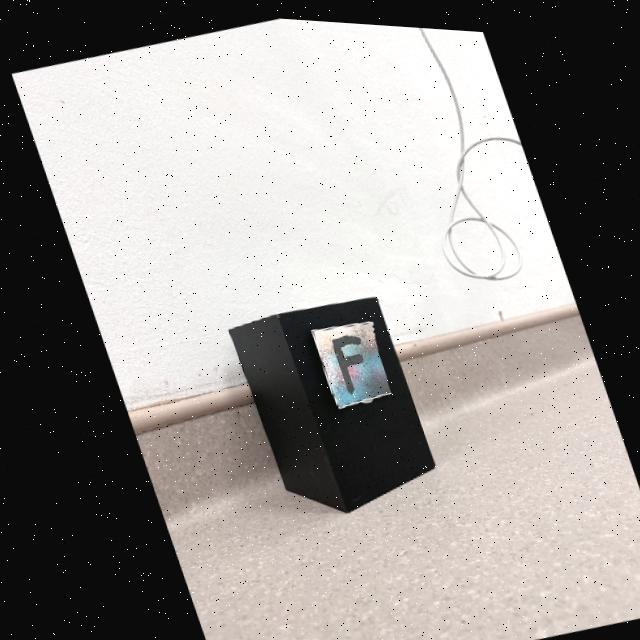F: (326, 331, 358, 389)
